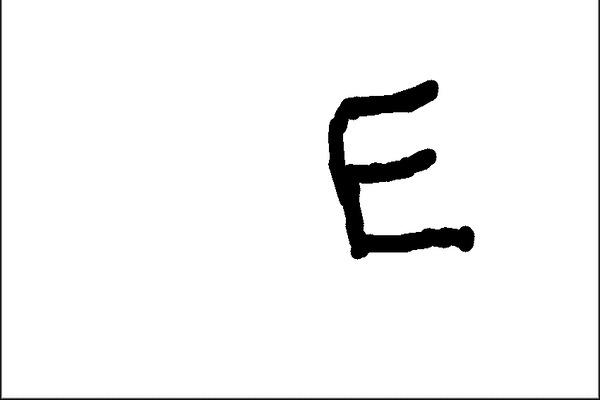E: (323, 75, 478, 261)
